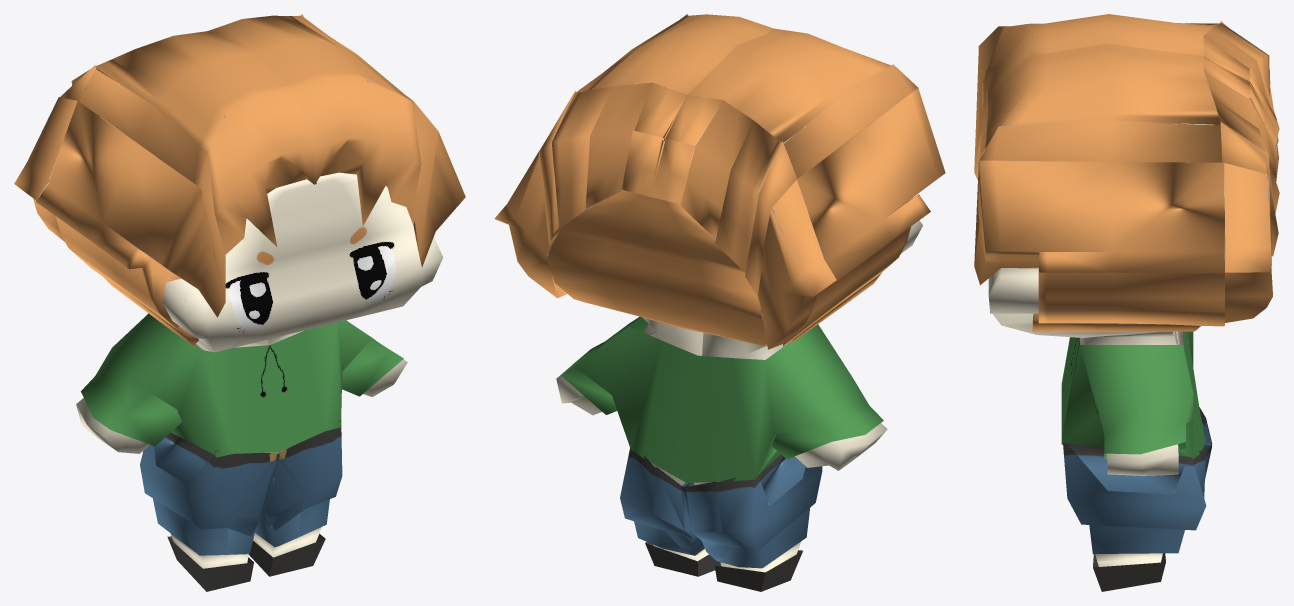
The model's file is Green_tall16.fbx.
The picture shows the model from 3 angles, left to right: view 1: azimuth 30°, elevation 25°; view 2: azimuth 150°, elevation 25°; view 3: azimuth 270°, elevation 25°; orthographic projection.
Parts seen in each view (by area): view 1: Hair, body, shirt, new pants, Shoes; view 2: Hair, shirt, new pants, body, Shoes; view 3: Hair, shirt, new pants, body, Shoes.
Boxes of the visible parts, x1=… form: Hair: x1=14, y1=14, x2=465, y2=345; body: x1=76, y1=172, x2=443, y2=568; shirt: x1=81, y1=313, x2=403, y2=457; new pants: x1=140, y1=420, x2=342, y2=555; Shoes: x1=167, y1=533, x2=325, y2=591; Hair: x1=494, y1=14, x2=945, y2=349; shirt: x1=561, y1=316, x2=883, y2=482; new pants: x1=620, y1=448, x2=822, y2=568; body: x1=556, y1=131, x2=922, y2=572; Shoes: x1=645, y1=542, x2=802, y2=591; Hair: x1=974, y1=14, x2=1279, y2=332; shirt: x1=1061, y1=331, x2=1205, y2=459; new pants: x1=1062, y1=407, x2=1212, y2=553; body: x1=988, y1=123, x2=1206, y2=566; Shoes: x1=1093, y1=553, x2=1165, y2=591.
Size of the model in its own units: 1.95 by 1.61 by 3.06.
1 material, 1 textured.
